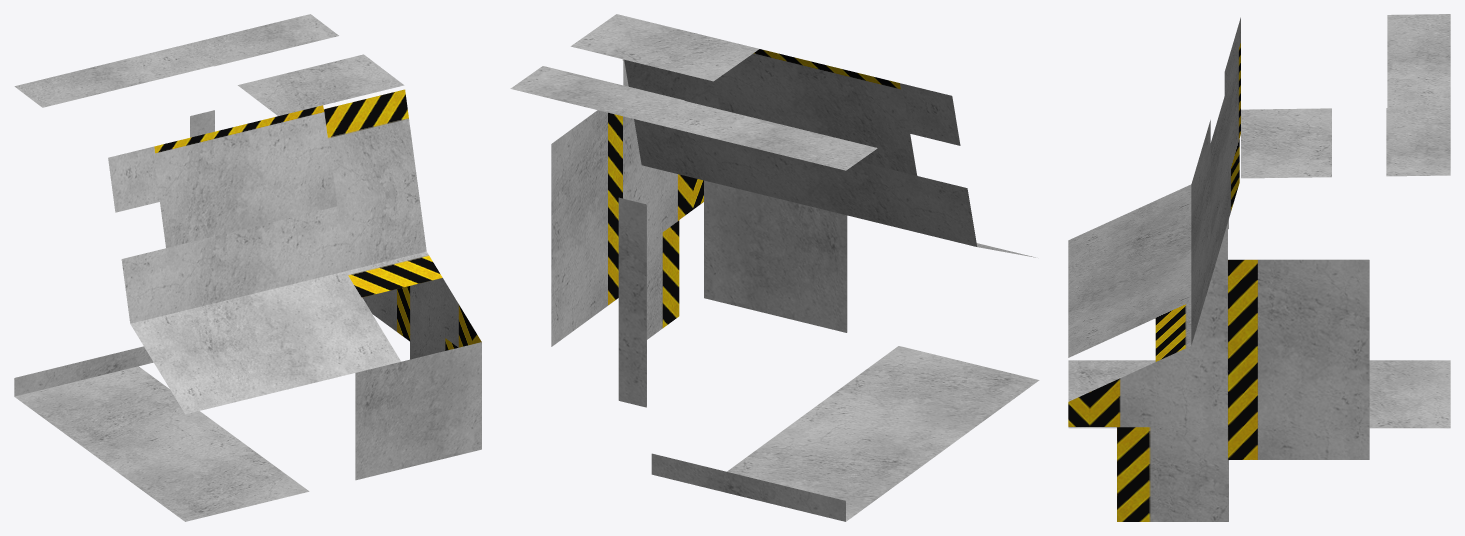
Rendered from Terminal.fbx.
3 renders of one model, left to right at view 1: azimuth 30°, elevation 25°; view 2: azimuth 150°, elevation 25°; view 3: azimuth 270°, elevation 25°, orthographic. The views are drawn at different scales.
Visible parts, largest first — view 1: Cube; view 2: Cube; view 3: Cube.
Part boxes in pixels (x1,y1,x2,y2): Cube: (14, 14, 481, 521); Cube: (510, 14, 1039, 521); Cube: (1068, 14, 1450, 521).
Size of the model in its own units: 90 by 90 by 90.
